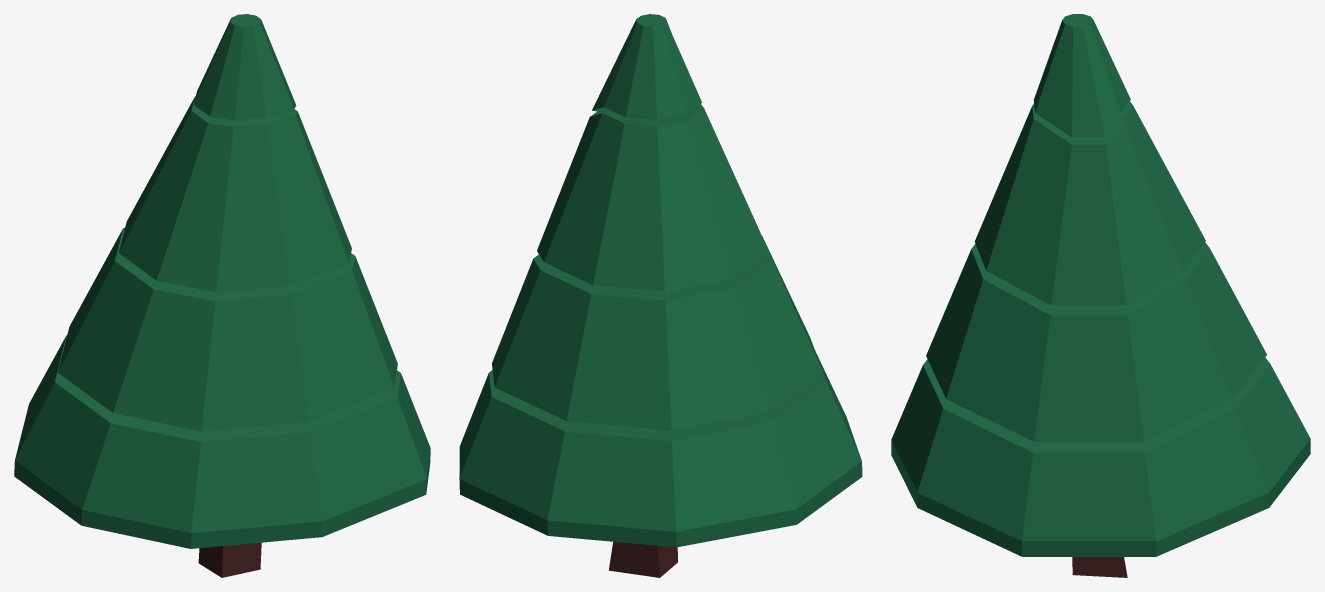
Rendered from Tree.fbx.
3 renders of one model, left to right at view 1: azimuth 30°, elevation 25°; view 2: azimuth 150°, elevation 25°; view 3: azimuth 270°, elevation 25°, orthographic. The views are drawn at different scales.
Parts seen in each view (by area): view 1: Cone, Cone.003, Cone.002, Cone.001, Cube; view 2: Cone, Cone.003, Cone.002, Cone.001, Cube; view 3: Cone, Cone.003, Cone.002, Cone.001, Cube.
Part boxes in pixels (box(x1,y1,x2,y2)): Cone: box(14, 335, 430, 548); Cone.003: box(58, 227, 397, 431); Cone.002: box(119, 96, 351, 292); Cone.001: box(193, 14, 296, 120); Cube: box(198, 542, 261, 577); Cone: box(459, 350, 862, 547); Cone.003: box(492, 235, 823, 430); Cone.002: box(537, 104, 768, 291); Cone.001: box(592, 14, 702, 119); Cube: box(608, 542, 677, 577); Cone: box(891, 357, 1310, 556); Cone.003: box(926, 242, 1266, 441); Cone.002: box(974, 101, 1205, 305); Cone.001: box(1033, 14, 1130, 137); Cube: box(1072, 557, 1127, 577).
Bounding box in the file's own units: 255 × 386 × 267.
